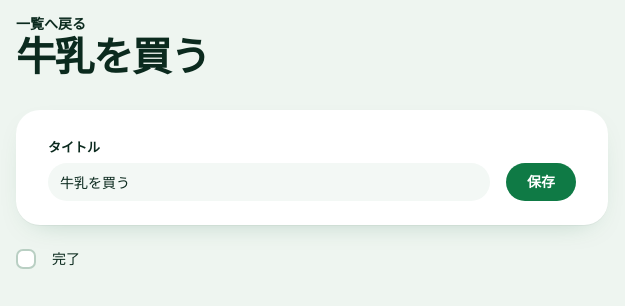
it: 空タイトルの 400（#/title）は、title の入力の説明として直下に出し、alert は出さない
Click the button "保存".
click(541, 182)  # box left=506, top=163, right=576, bottom=201
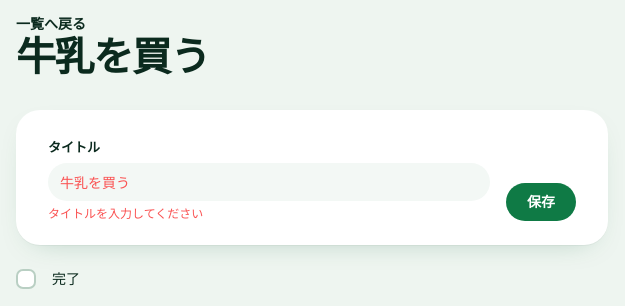
Result: the text "タイトルを入力してください" is shown at left=48, top=206, right=203, bottom=221
Result: the text "タイトルを入力してください" is shown once at left=48, top=206, right=203, bottom=221
